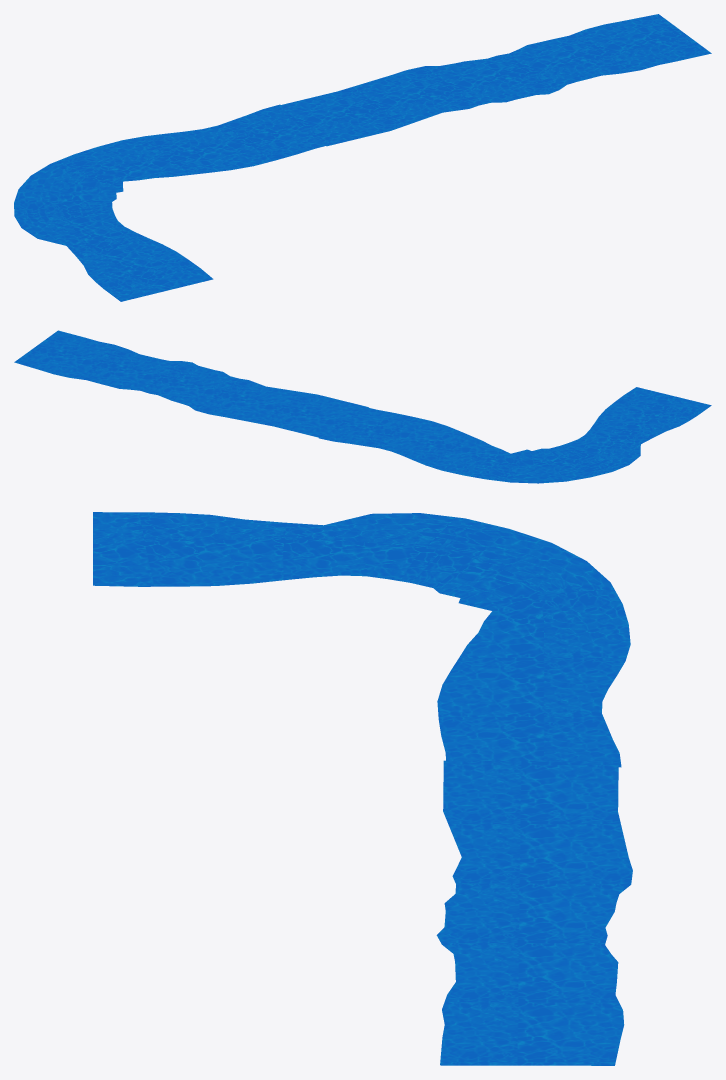
3 renders of one model, top to bottom at view 1: azimuth 30°, elevation 25°; view 2: azimuth 150°, elevation 25°; view 3: azimuth 270°, elevation 25°, orthographic. The views are drawn at different scales.
Parts seen in each view (by area): view 1: sub11; view 2: sub11; view 3: sub11.
Part boxes in pixels (x1=…): sub11: x1=14, y1=14, x2=711, y2=301; sub11: x1=14, y1=330, x2=711, y2=483; sub11: x1=93, y1=512, x2=632, y2=1065.
Size of the model in its own units: 9.15 by 0.000977 by 3.77.
Materials: 2 (2 with a texture image).
